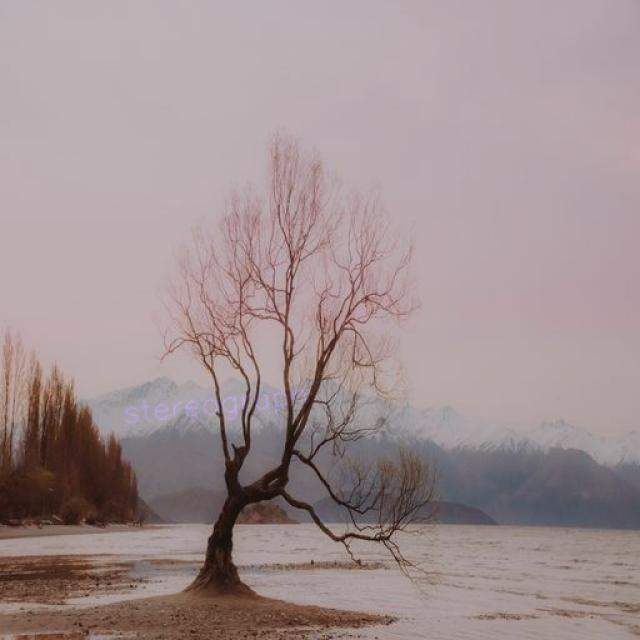watermark: (116, 379, 309, 428)
